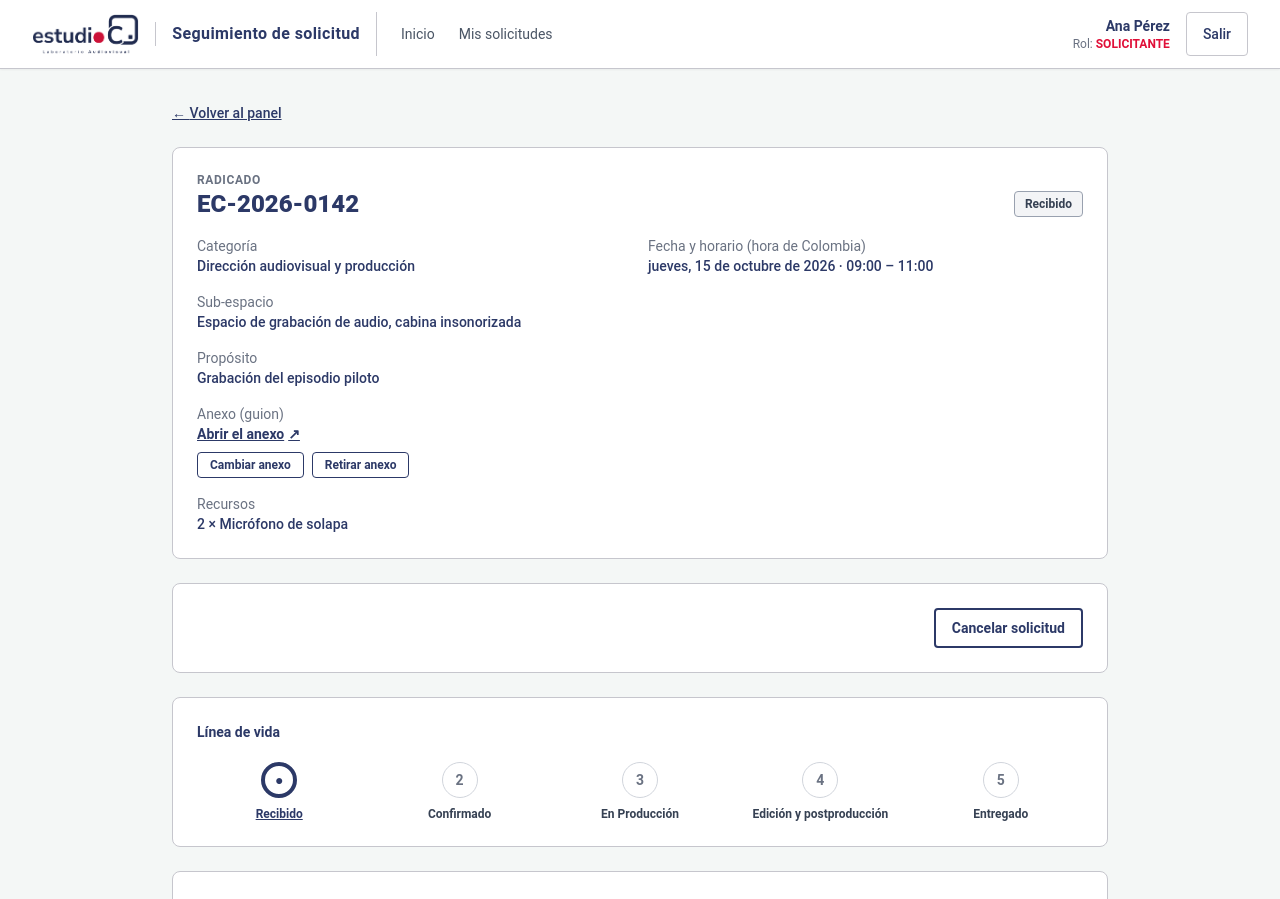
Scenario: DetalleSolicitud · edición del anexo por el dueño (Fase 9 · K3) › errores, recarga y doble envío › si la recarga tras el 409 falla, no queda nada con qué operar sobre la foto vieja
Click the button "Retirar anexo": (361, 465) x1=312 y1=452 x2=409 y2=478
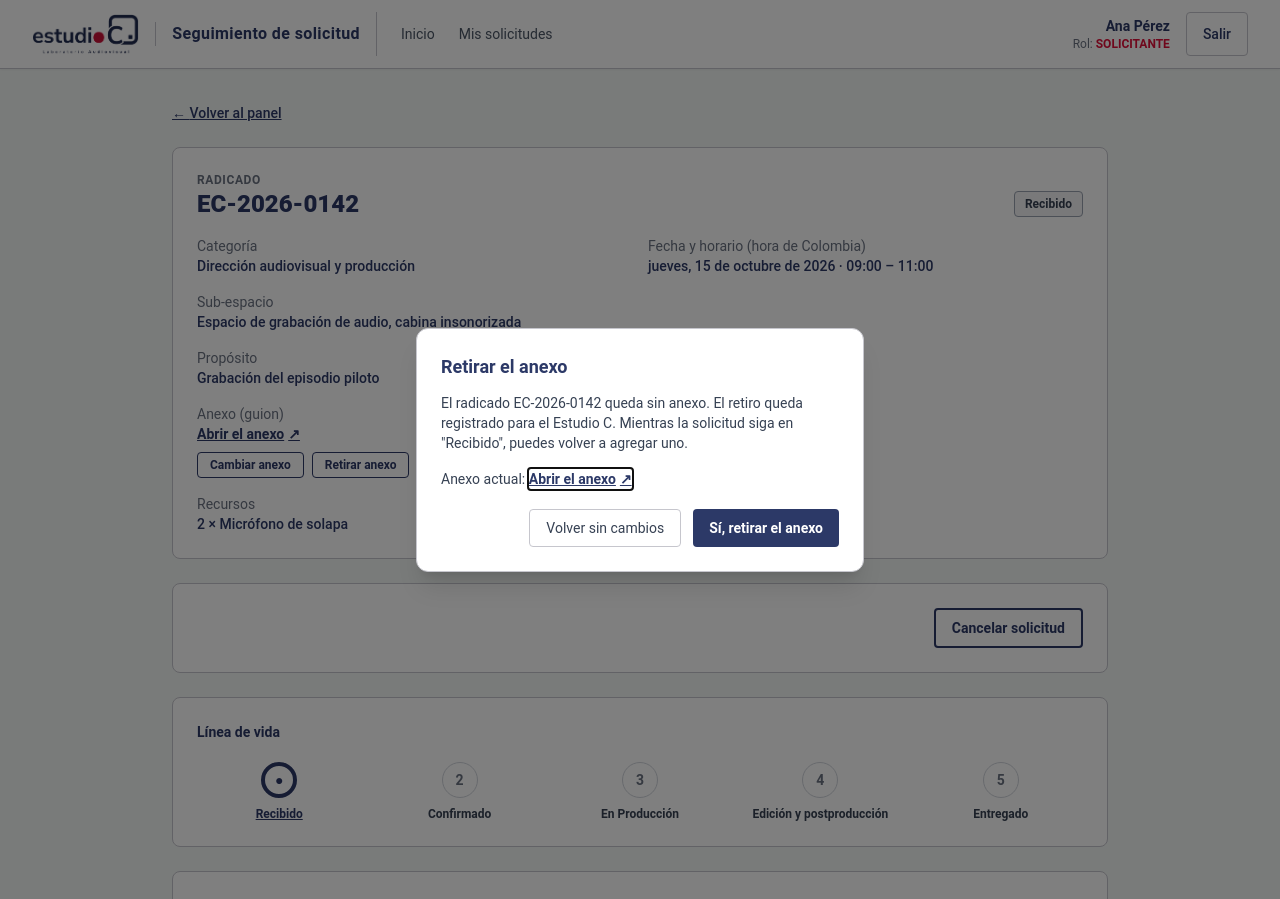
Click the button "Sí, retirar el anexo": (766, 528) x1=693 y1=509 x2=839 y2=547
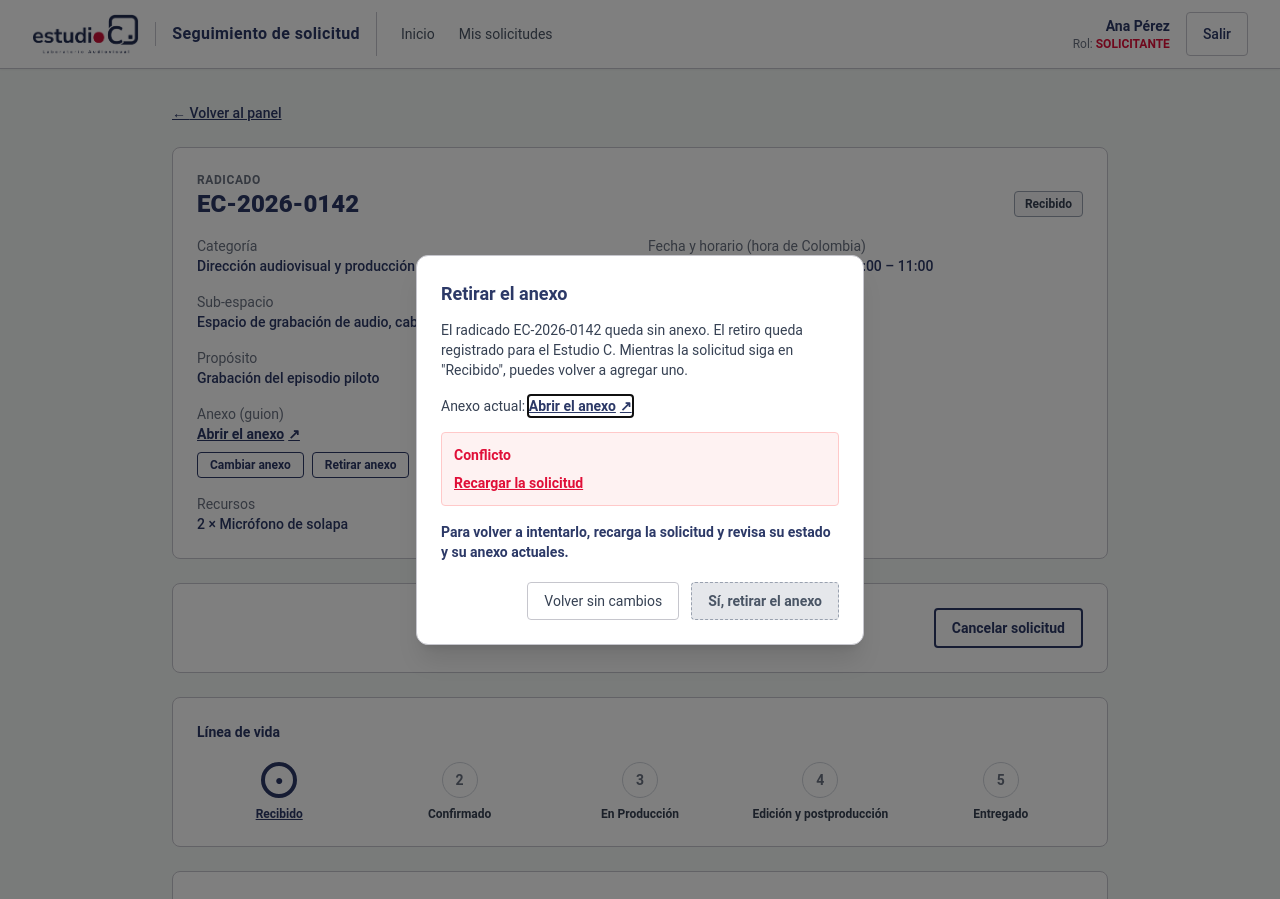
Expected: the message "Conflicto Recargar la solicitud" is shown, x1=441 y1=432 x2=839 y2=506
Click the button "Volver sin cambios": (603, 601) x1=527 y1=582 x2=679 y2=620
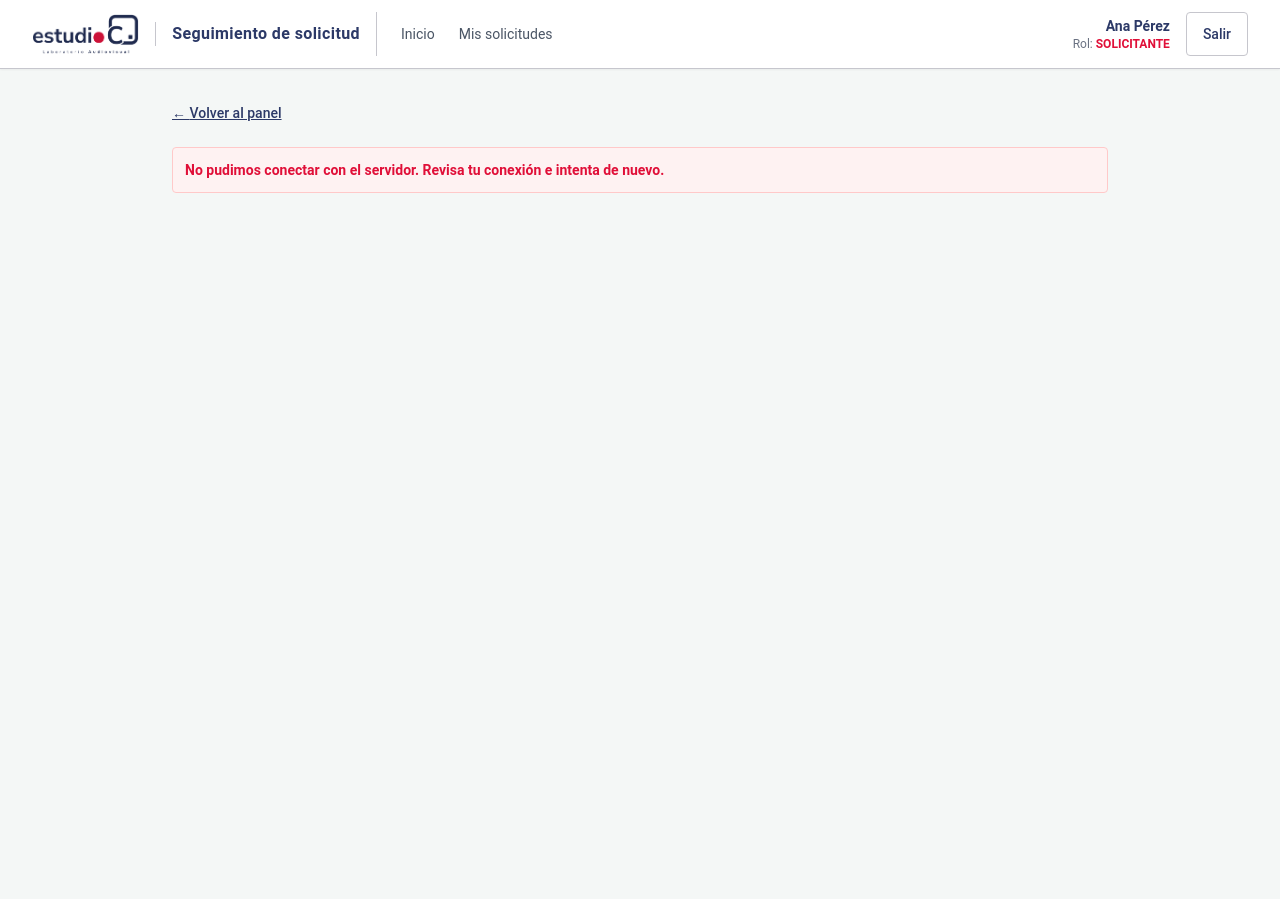
Expected: the text "No pudimos conectar con el servidor. Revisa tu conexión e intenta de nuevo." is shown, x1=172 y1=147 x2=1108 y2=193
Expected: the link "Abrir el anexo" is gone
